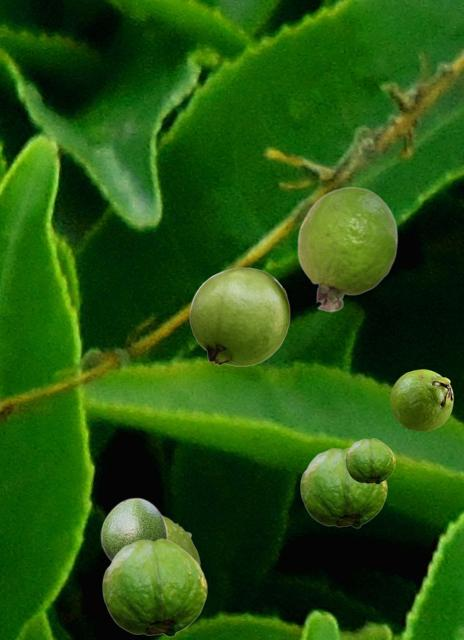guava: (297, 186, 397, 311), (102, 538, 206, 636), (189, 267, 289, 365), (300, 447, 386, 527), (100, 497, 167, 561), (390, 369, 452, 430), (345, 438, 394, 483), (164, 515, 199, 562)
